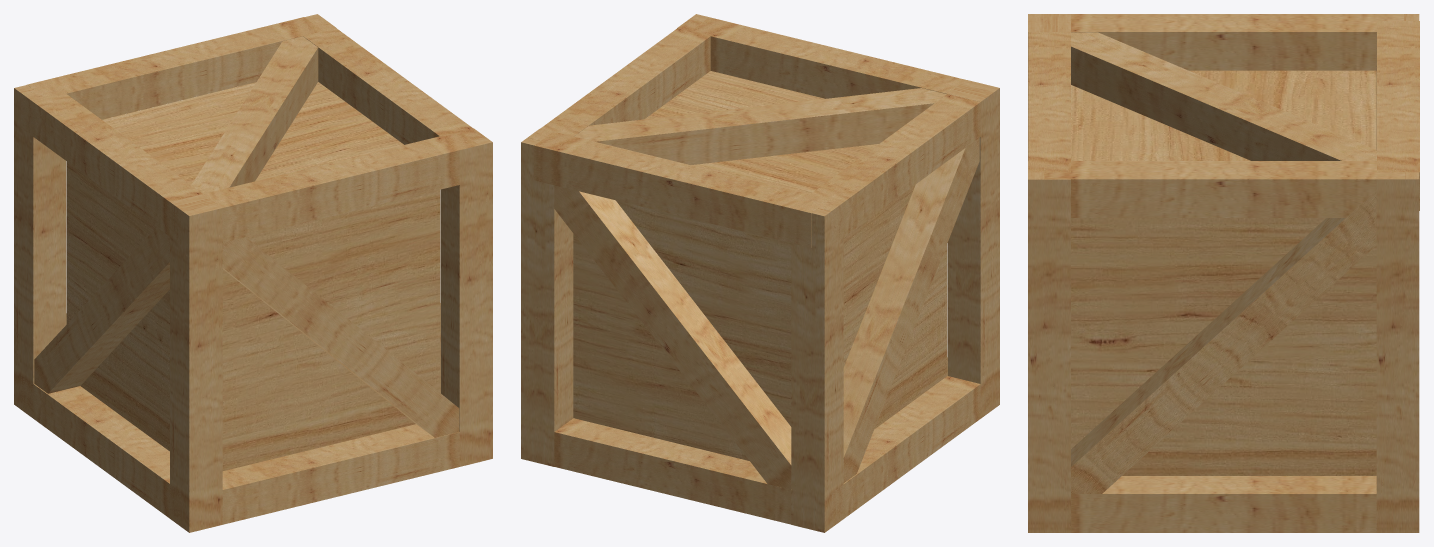
File: crate.fbx
3 renders of one model, left to right at view 1: azimuth 30°, elevation 25°; view 2: azimuth 150°, elevation 25°; view 3: azimuth 270°, elevation 25°, orthographic. The views are drawn at different scales.
Parts seen in each view (by area): view 1: pCube45; view 2: pCube45; view 3: pCube45.
Boxes of the visible parts, <box> form: pCube45: <box>14,14,492,532</box>; pCube45: <box>521,14,999,532</box>; pCube45: <box>1028,14,1419,532</box>.
Size of the model in its own units: 1.28 by 1.28 by 1.28.
1 material, 1 textured.
